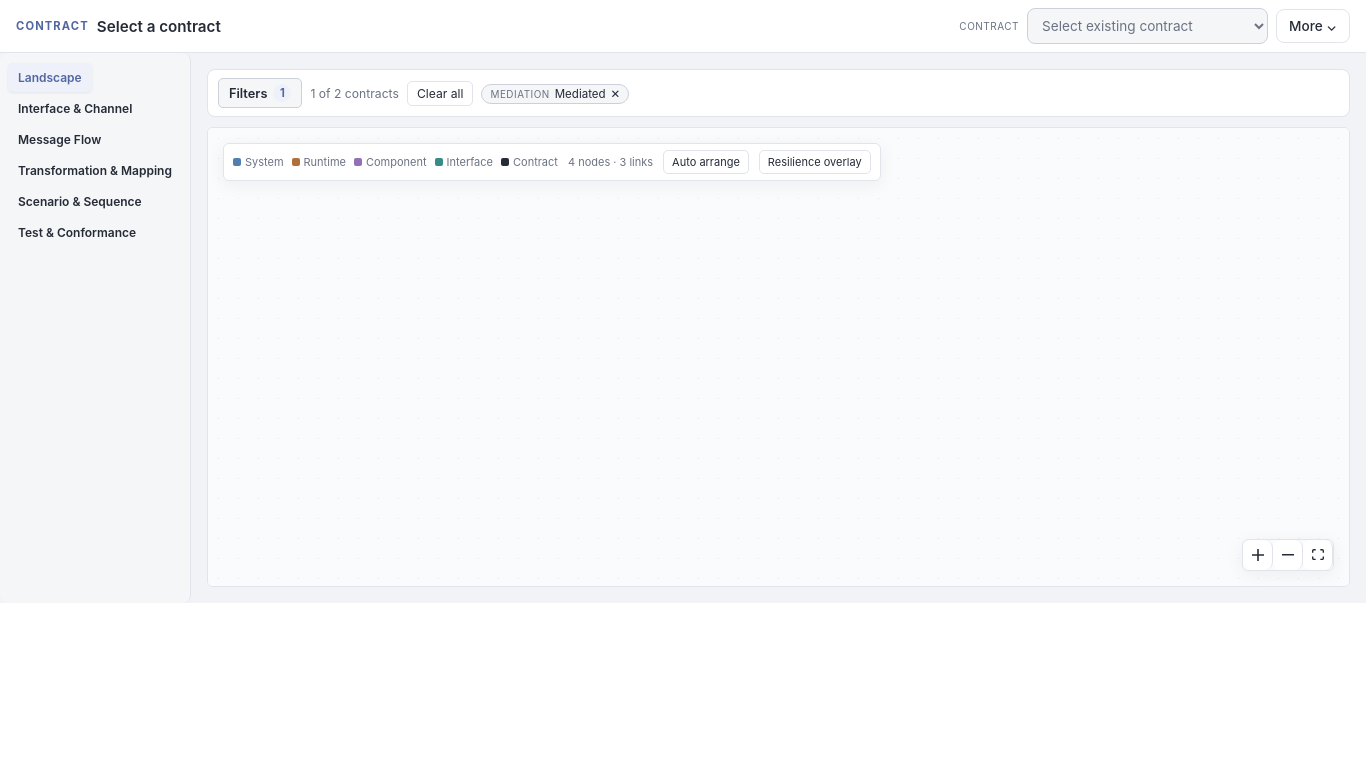
Test case: Integration Landscape filtering › removes a filter parameter when the filters are cleared from the URL
Check: the text "1 of 2 contracts" is shown, box left=310, top=86, right=399, bottom=100
Step 1. Click the button "Clear all" → [440, 93], box left=407, top=80, right=474, bottom=106
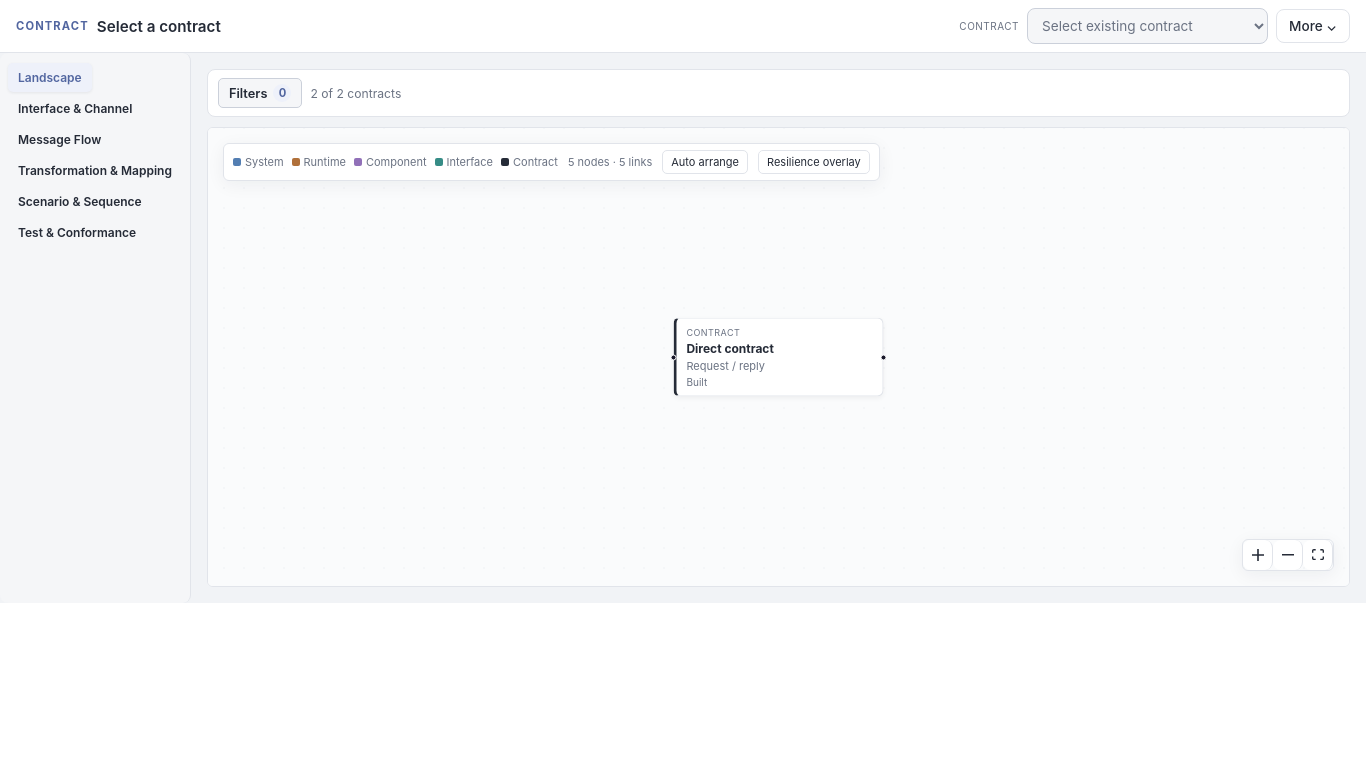
Check: the text "2 of 2 contracts" is shown, box left=310, top=86, right=401, bottom=100
